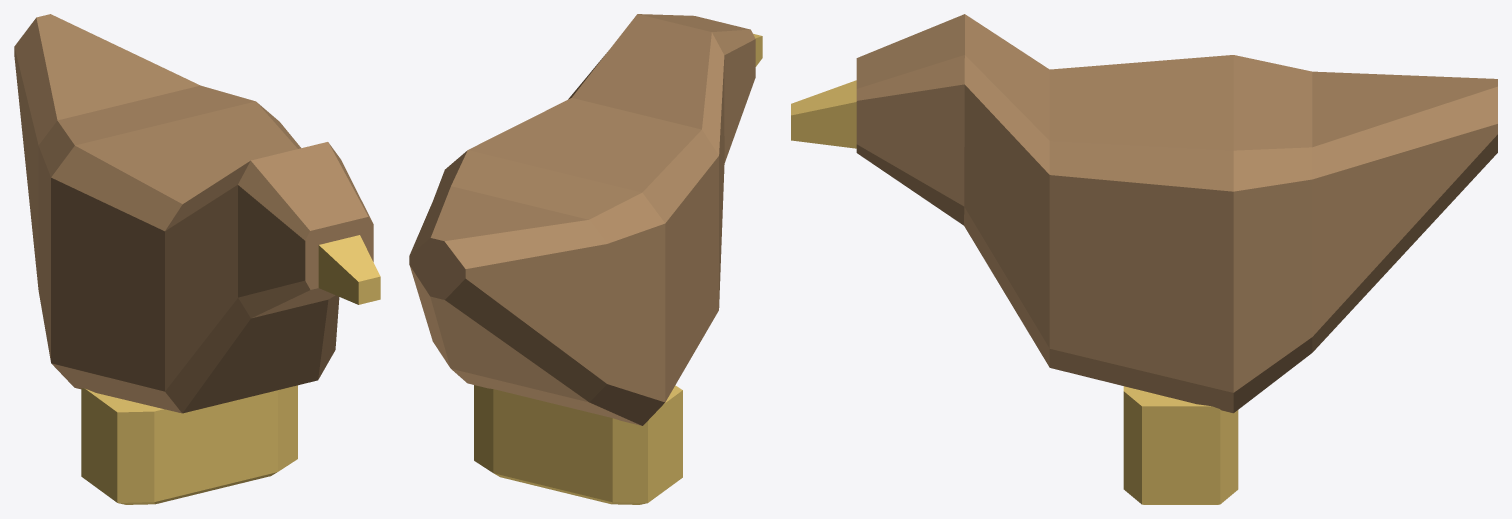
The model's file is Chicken.fbx.
3 renders of one model, left to right at view 1: azimuth 30°, elevation 25°; view 2: azimuth 150°, elevation 25°; view 3: azimuth 270°, elevation 25°, orthographic. The views are drawn at different scales.
Visible parts, largest first — view 1: Chicken; view 2: Chicken; view 3: Chicken.
Boxes of the visible parts, bbox=[...] form: Chicken: bbox=[14, 14, 380, 504]; Chicken: bbox=[409, 14, 762, 504]; Chicken: bbox=[791, 14, 1497, 504].
Bounding box in the file's own units: 57.9 × 95.52 × 143.
